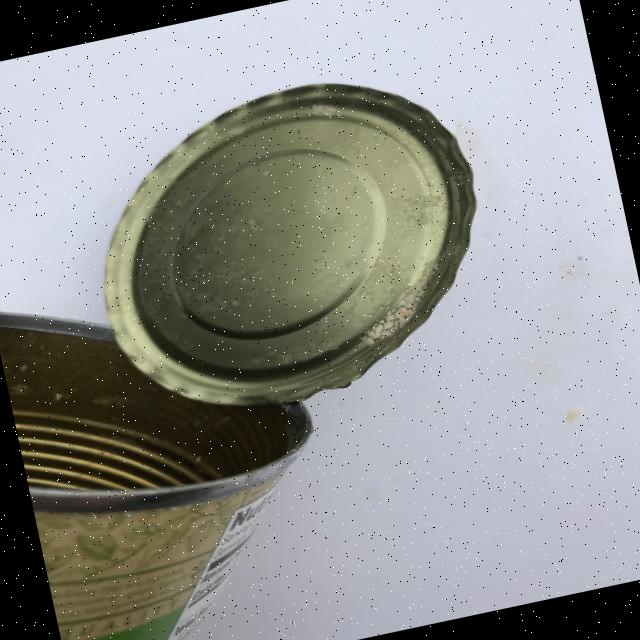metal: (67, 52, 512, 436)
